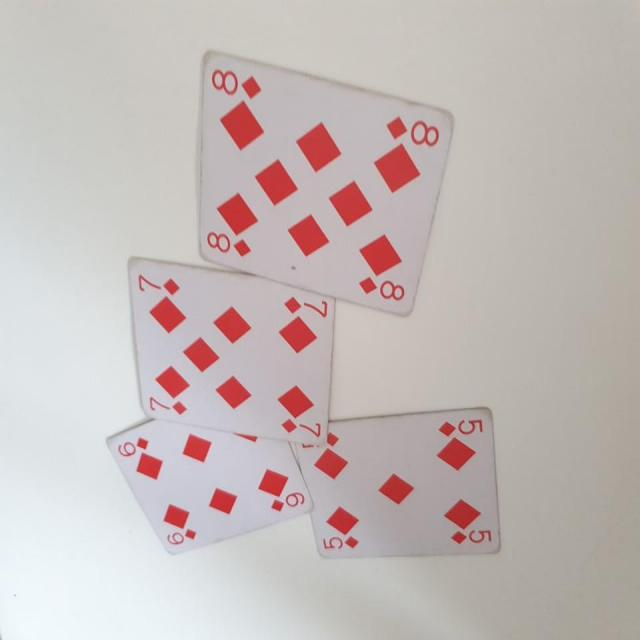5 Diamonds: (295, 400, 507, 561)
6 Diamonds: (105, 417, 314, 556)
7 Diamonds: (126, 256, 335, 443)
8 Diamonds: (196, 48, 454, 320)
